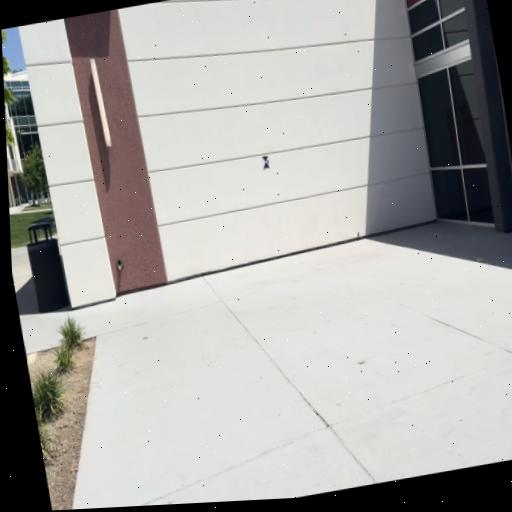target0: (261, 155, 270, 168)
